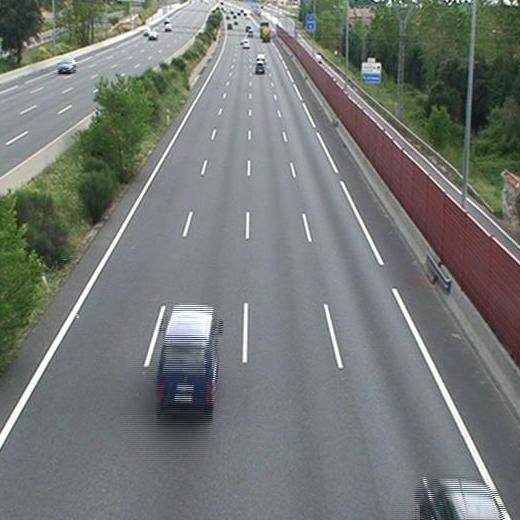car: (255, 61, 266, 73)
van: (157, 306, 217, 406)
